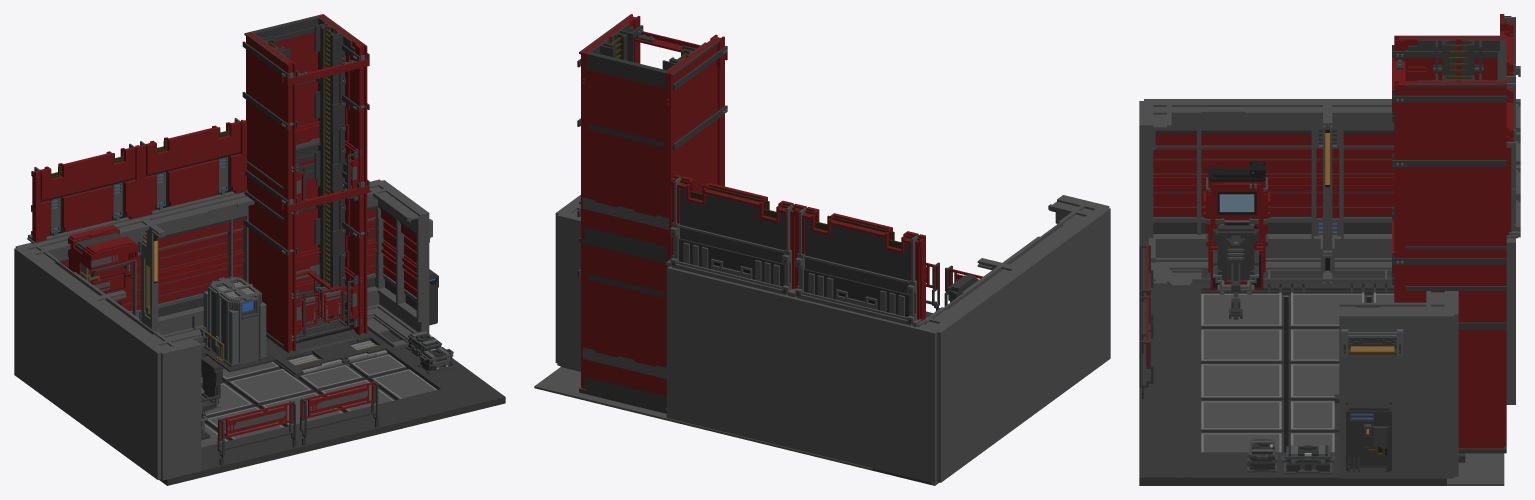
Rendered from Office WIP 01.obj.
3 views of the same model, side by side, from view 1: azimuth 30°, elevation 25°; view 2: azimuth 150°, elevation 25°; view 3: azimuth 270°, elevation 25° (orthographic). The views are drawn at different scales.
Bounding box in the file's own units: 23.5 × 18.2 × 16.6.
Materials: 1 (1 with a texture image).
